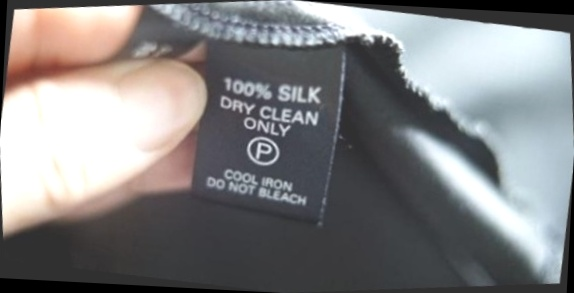dry_clean_any_solvent_except_trichloroethylene: (243, 130, 286, 170)
